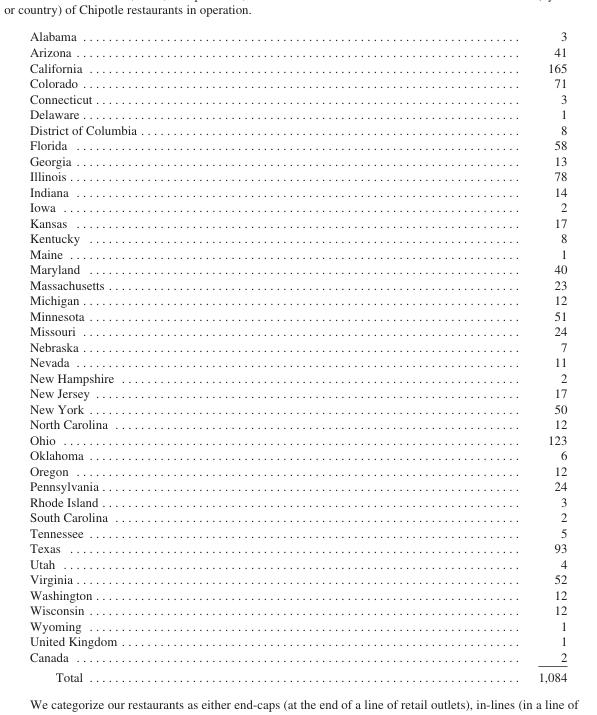table: (28, 28, 566, 684)
table column: (28, 28, 336, 684), (336, 28, 566, 684)
table row: (28, 648, 566, 666), (28, 666, 566, 684), (28, 43, 566, 59), (28, 74, 566, 90), (28, 105, 566, 121), (28, 136, 566, 152), (28, 167, 566, 183), (28, 198, 566, 214), (28, 229, 566, 245), (28, 260, 566, 276), (28, 291, 566, 307), (28, 322, 566, 338), (28, 353, 566, 369), (28, 384, 566, 400), (28, 415, 566, 431), (28, 446, 566, 462), (28, 477, 566, 493), (28, 508, 566, 524), (28, 539, 566, 555), (28, 570, 566, 586), (28, 601, 566, 617), (28, 632, 566, 648), (28, 28, 566, 43), (28, 59, 566, 74), (28, 90, 566, 105), (28, 121, 566, 136), (28, 152, 566, 167), (28, 183, 566, 198), (28, 214, 566, 229), (28, 245, 566, 260), (28, 276, 566, 291), (28, 307, 566, 322), (28, 338, 566, 353), (28, 369, 566, 384), (28, 400, 566, 415), (28, 431, 566, 446), (28, 462, 566, 477), (28, 493, 566, 508), (28, 524, 566, 539), (28, 555, 566, 570), (28, 586, 566, 601), (28, 617, 566, 632)
